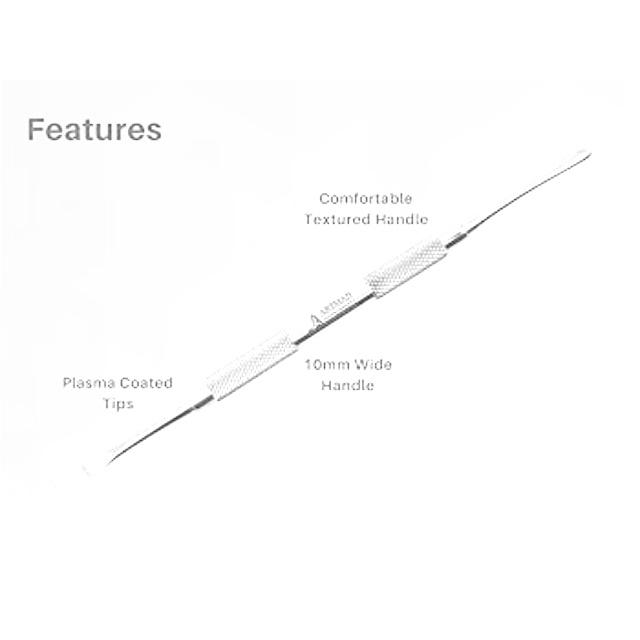elevador: (82, 150, 590, 481)
